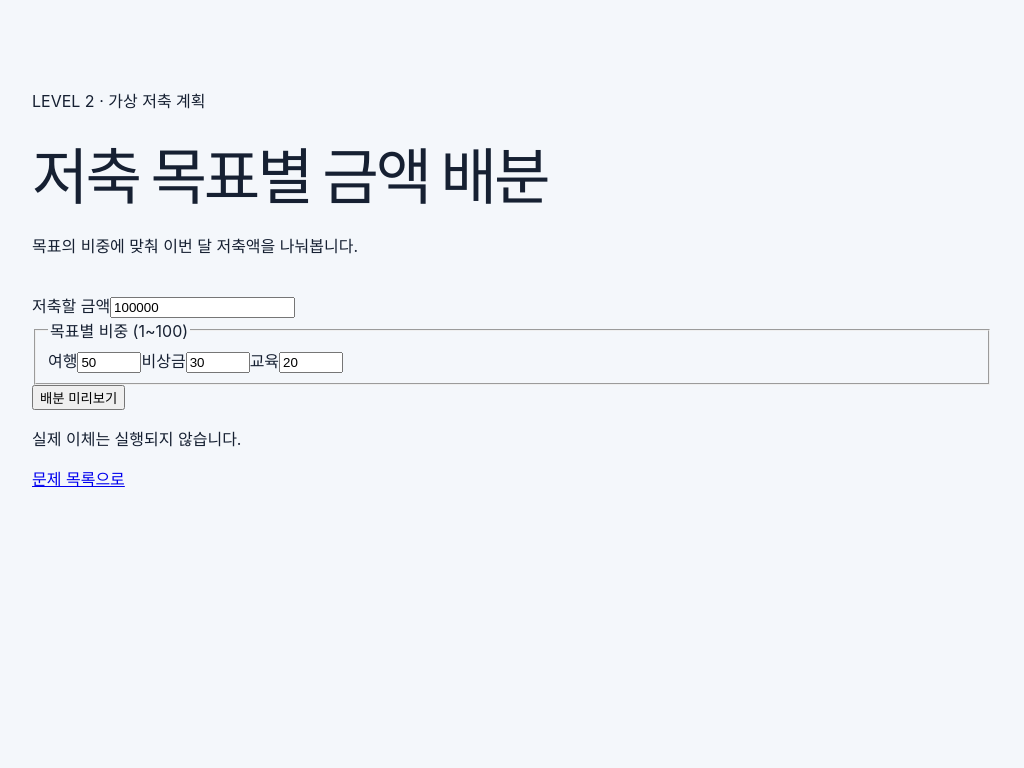
Test: 저축 배분 기본 동작 › 버튼을 누르면 결과를 표시한다
The image size is (1024, 768).
Click the button "배분 미리보기" at (79, 397), box x1=32 y1=385 x2=125 y2=410
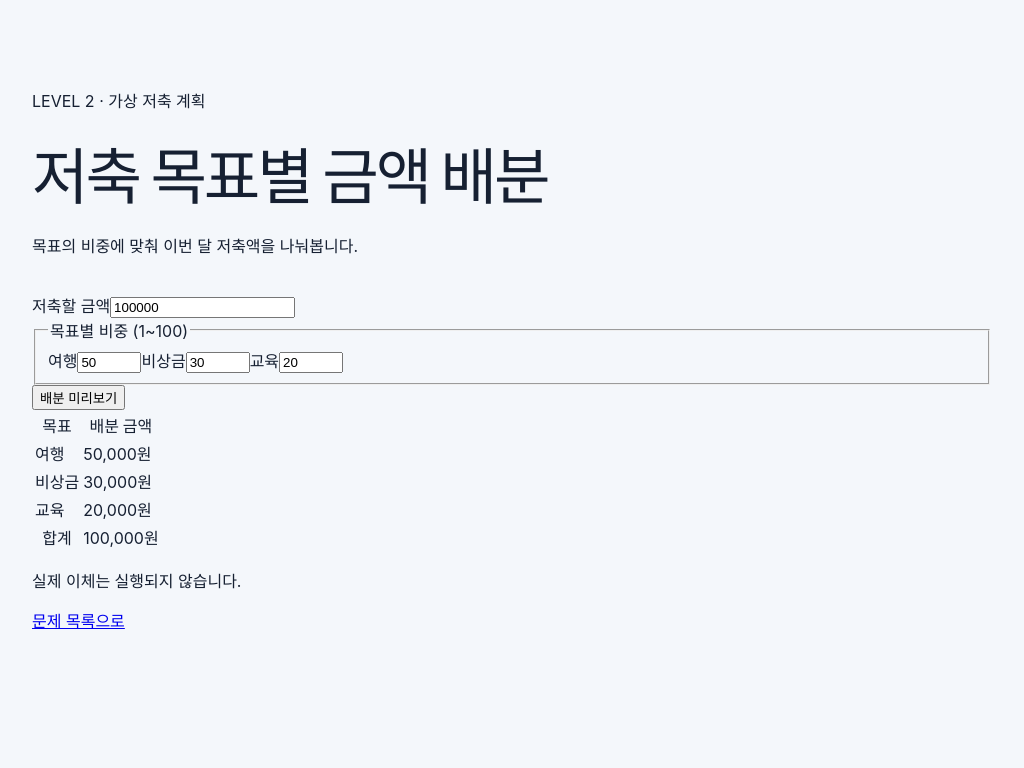
Now the element named "배분 결과" shows "50,000원", box x1=35 y1=416 x2=159 y2=548
